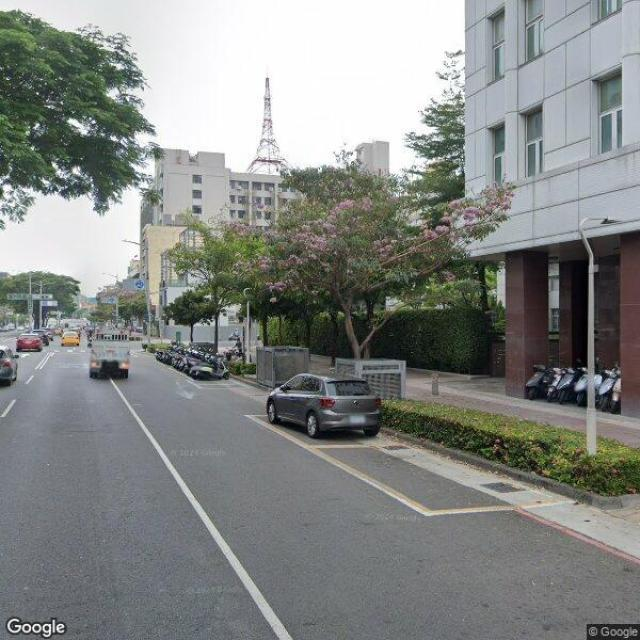Legalparking: (268, 374, 378, 436), (151, 336, 240, 376), (532, 366, 621, 404)
